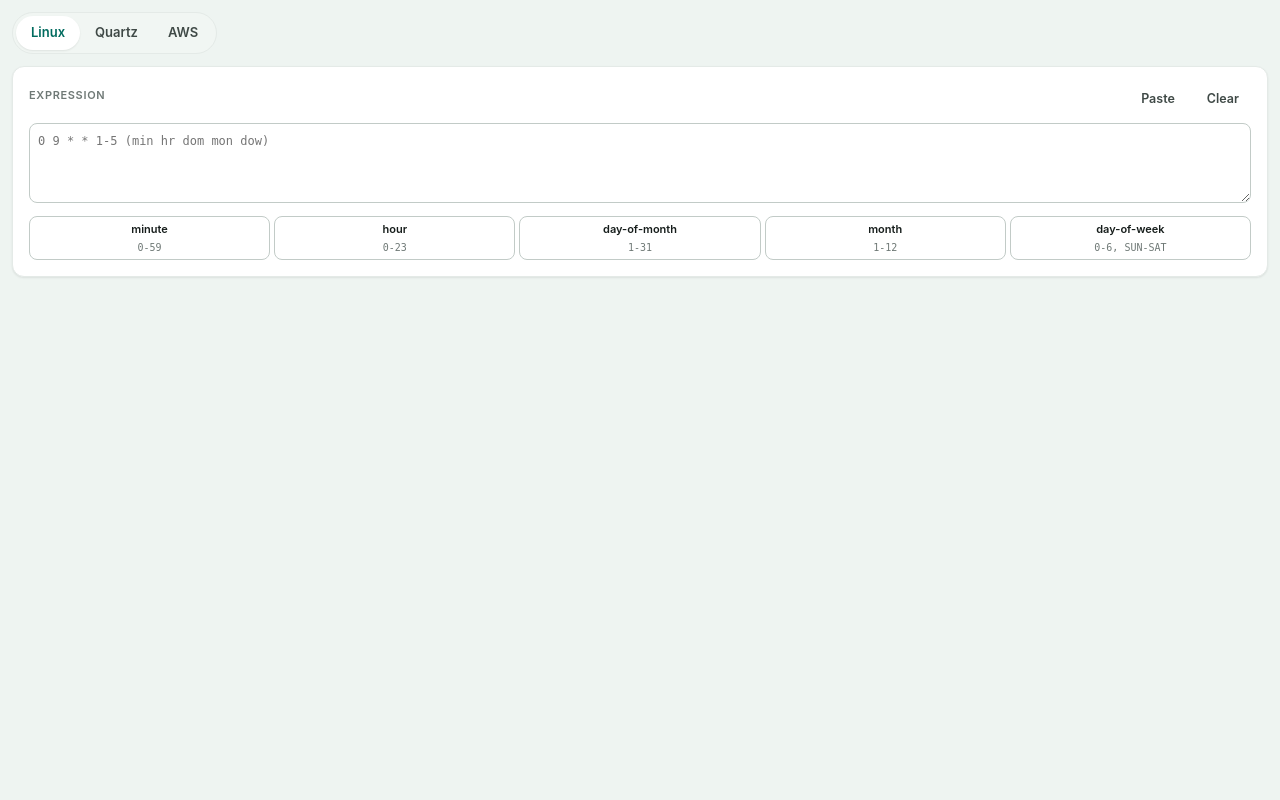
Scenario: Cron page › shows hints card when Quartz dialect selected
Click the button "Quartz".
click(116, 33)  # box top-left (80, 16), bottom-right (153, 50)
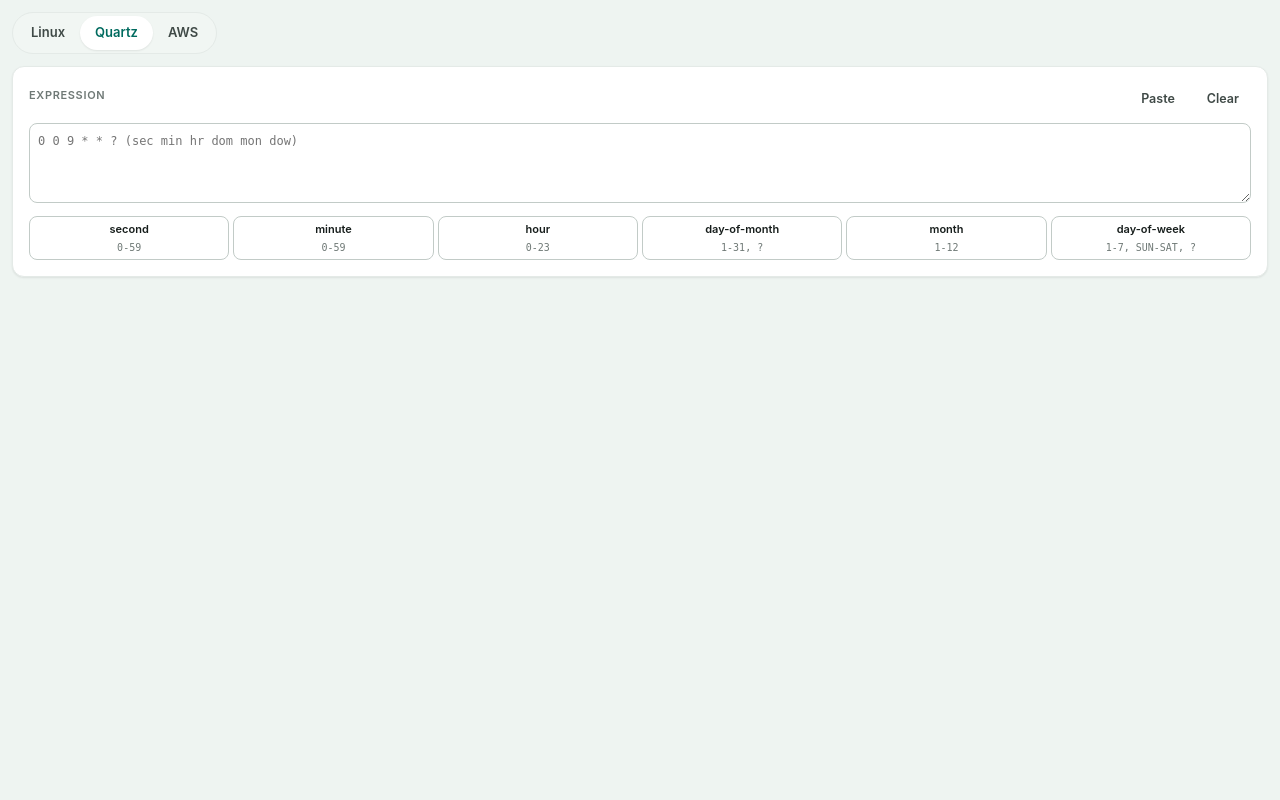
Type "0 * * * * ?" into the text box with test id "cron-input".
click(640, 163); type("0 * * * * ?")  # box top-left (29, 123), bottom-right (1251, 203)
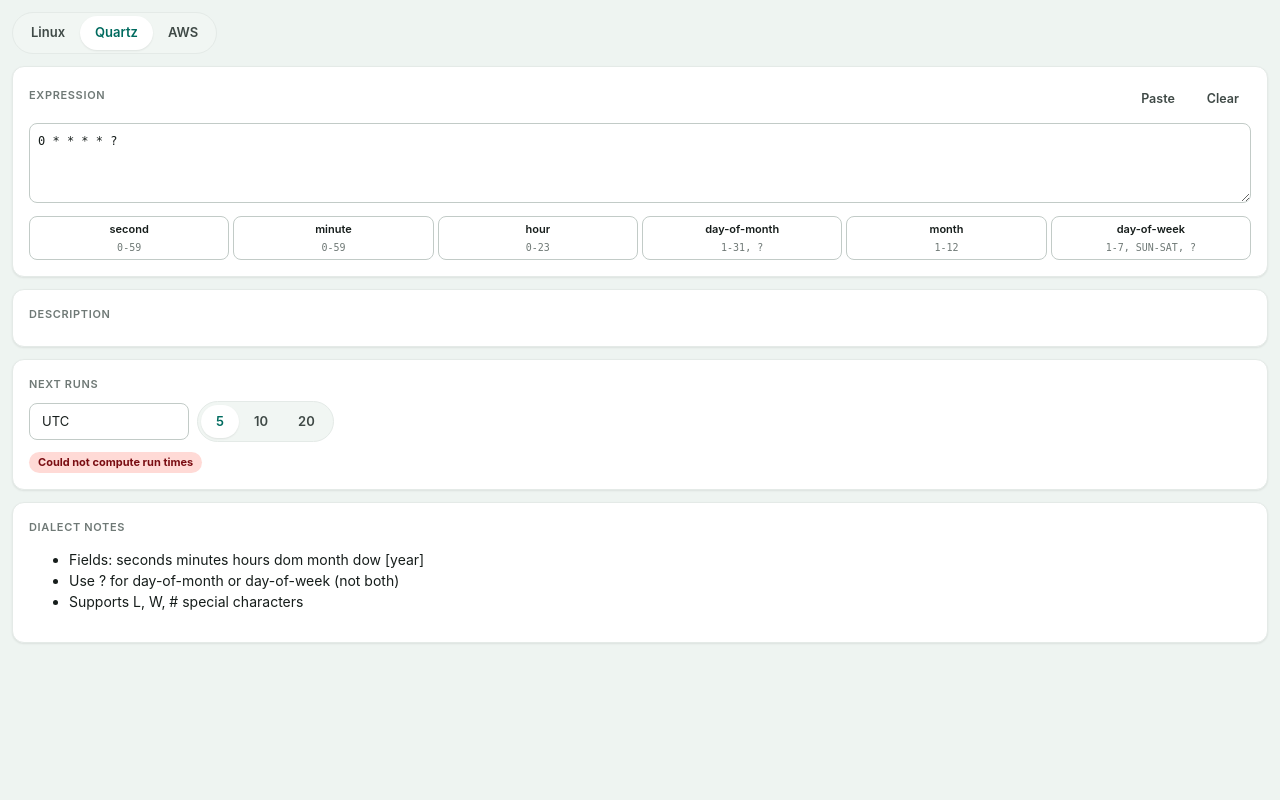
Result: the list with test id "cron-hints" is shown at top-left (69, 551), bottom-right (424, 610)
